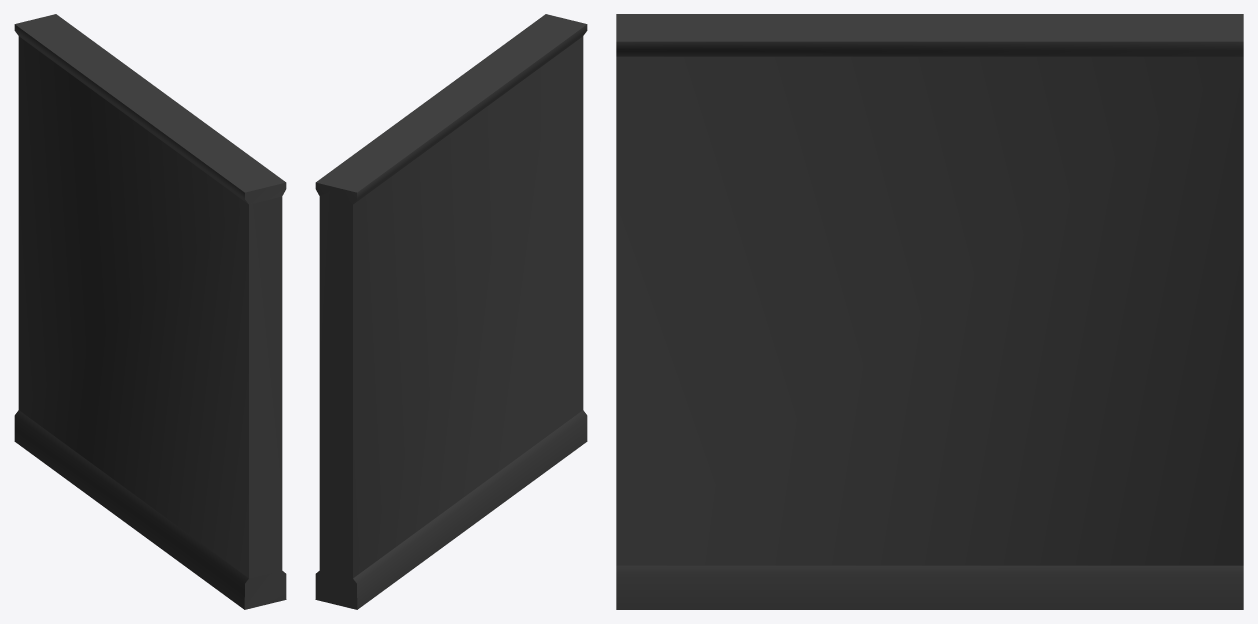
The model's file is Neo_Wall_snaps001.fbx.
3 renders of one model, left to right at view 1: azimuth 30°, elevation 25°; view 2: azimuth 150°, elevation 25°; view 3: azimuth 270°, elevation 25°, orthographic. The views are drawn at different scales.
Visible parts, largest first — view 1: Neo_Wall_snaps001; view 2: Neo_Wall_snaps001; view 3: Neo_Wall_snaps001.
Part boxes in pixels (left/top/right/bottom): Neo_Wall_snaps001: left=14, top=14, right=286, bottom=609; Neo_Wall_snaps001: left=315, top=14, right=587, bottom=609; Neo_Wall_snaps001: left=616, top=14, right=1243, bottom=609.
Bounding box in the file's own units: 0.3144 × 3 × 3.
Materials: 1 (1 with a texture image).
